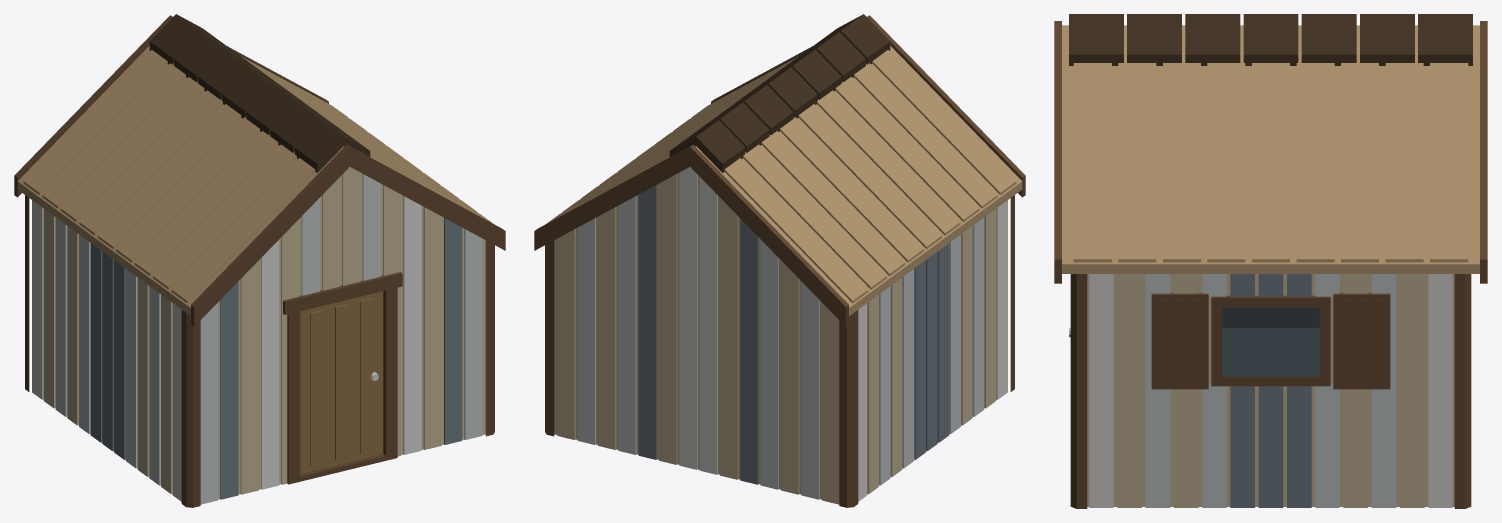
File: backyard-garden-shed-38d79f.glb
3 renders of one model, left to right at view 1: azimuth 30°, elevation 25°; view 2: azimuth 150°, elevation 25°; view 3: azimuth 270°, elevation 25°, orthographic. The views are drawn at different scales.
Visible parts, largest first — view 1: shed-shell, door-leaf; view 2: shed-shell; view 3: shed-shell.
Boxes of the visible parts, left/top/right/bottom form: shed-shell: left=14, top=14, right=505, bottom=507; door-leaf: left=300, top=291, right=383, bottom=473; shed-shell: left=534, top=14, right=1025, bottom=507; shed-shell: left=1054, top=14, right=1487, bottom=508.
Bounding box in the file's own units: 4 × 4.11 × 4.
